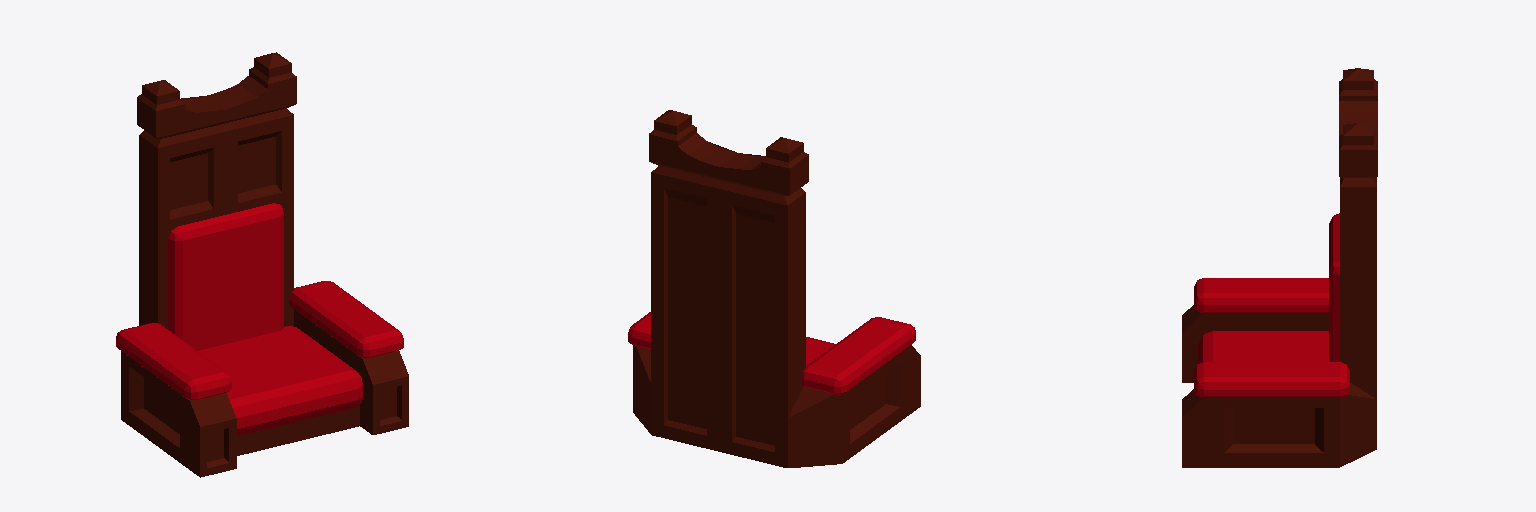
The model's file is throne.obj.
The picture shows the model from 3 angles: view 1: azimuth 30°, elevation 25°; view 2: azimuth 150°, elevation 25°; view 3: azimuth 270°, elevation 25°; orthographic projection.
Parts seen in each view (by area): view 1: throne_Cube.419; view 2: throne_Cube.419; view 3: throne_Cube.419.
Part boxes in pixels (bbox=[...]): throne_Cube.419: bbox=[116, 52, 408, 477]; throne_Cube.419: bbox=[628, 110, 920, 467]; throne_Cube.419: bbox=[1182, 68, 1377, 467].
Bounding box in the file's own units: 1.69 × 2.38 × 1.31.